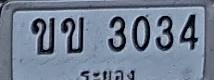0: (132, 15, 150, 51)
3: (108, 16, 126, 52), (156, 14, 174, 50)
4: (180, 13, 198, 50)
A02: (31, 17, 55, 54), (61, 16, 84, 53)
RYG: (80, 67, 138, 80)
